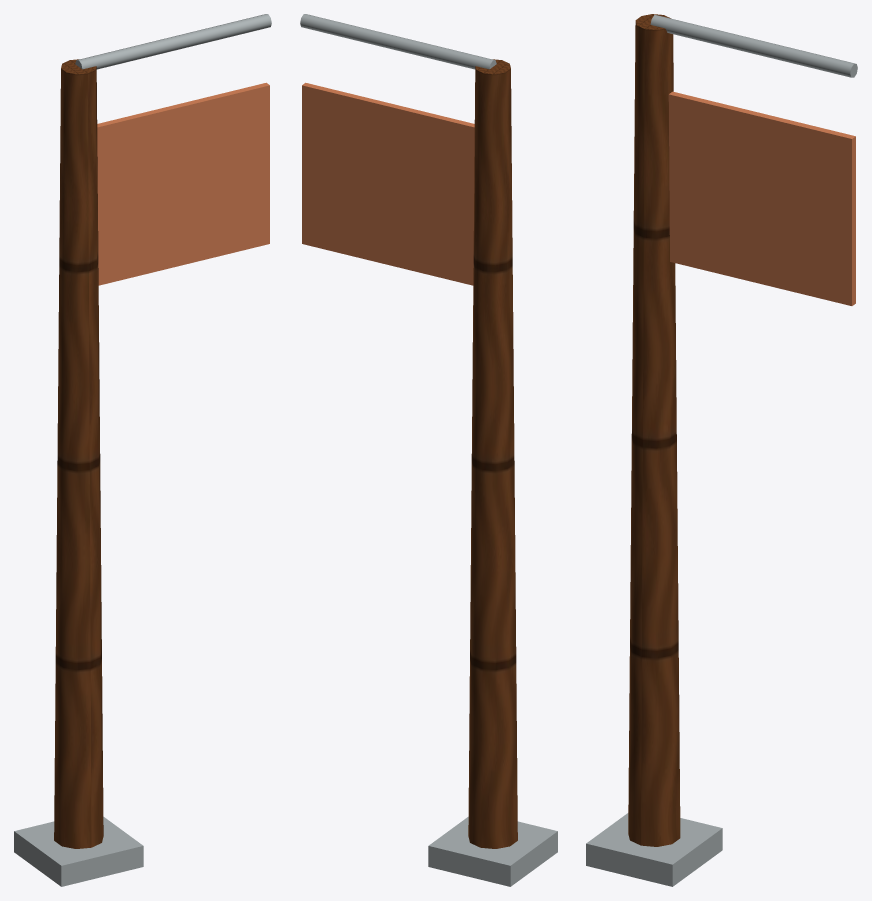
File: fortified-compound-expansion-signal-flag-mast-06479594__27127.glb
The picture shows the model from 3 angles, left to right: view 1: azimuth 30°, elevation 25°; view 2: azimuth 150°, elevation 25°; view 3: azimuth 330°, elevation 25°; orthographic projection. The views are drawn at different scales.
Visible parts, largest first — view 1: signal-flag-mast; view 2: signal-flag-mast; view 3: signal-flag-mast.
Boxes of the visible parts, x1,y1,x2,y2 form: signal-flag-mast: [14, 14, 271, 886]; signal-flag-mast: [300, 14, 557, 886]; signal-flag-mast: [586, 14, 857, 886].
Size of the model in its own units: 0.9126 by 3.03 by 0.325.
3 materials, 1 textured.
